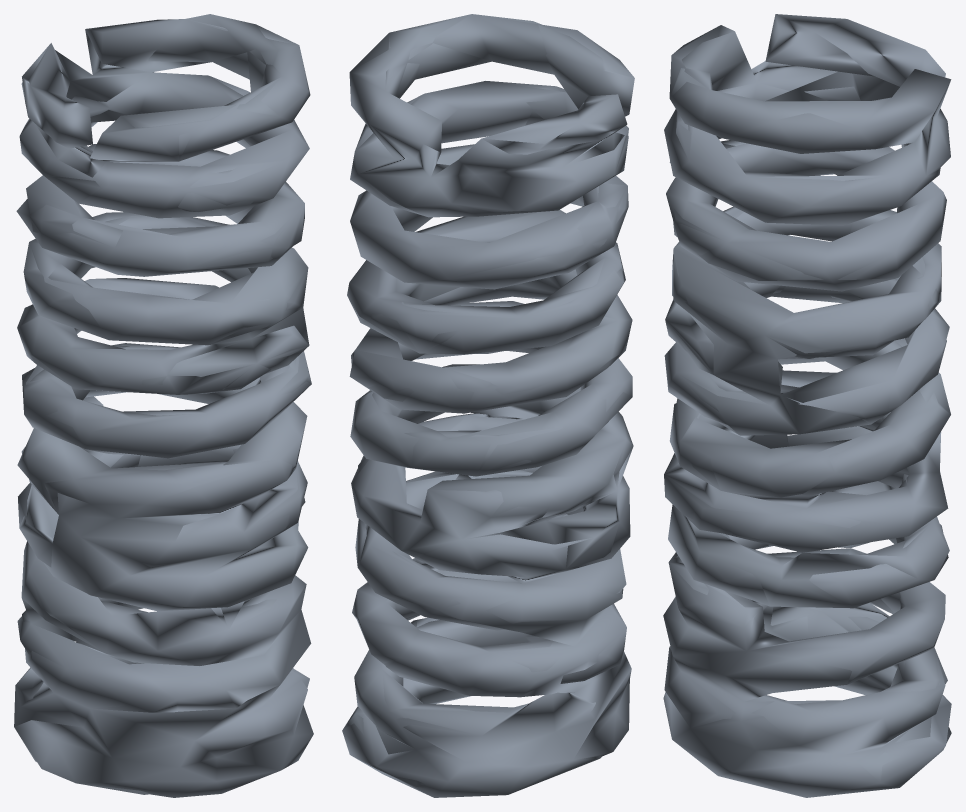
File: gen3d-coil-spring-lod1.glb
3 renders of one model, left to right at view 1: azimuth 30°, elevation 25°; view 2: azimuth 150°, elevation 25°; view 3: azimuth 270°, elevation 25°, orthographic. The views are drawn at different scales.
Visible parts, largest first — view 1: part_0; view 2: part_0; view 3: part_0.
Boxes of the visible parts, x1=… form: part_0: x1=14, y1=14, x2=313, y2=797; part_0: x1=342, y1=14, x2=634, y2=797; part_0: x1=663, y1=14, x2=951, y2=797.
Size of the model in its own units: 0.3791 by 0.9993 by 0.377.
